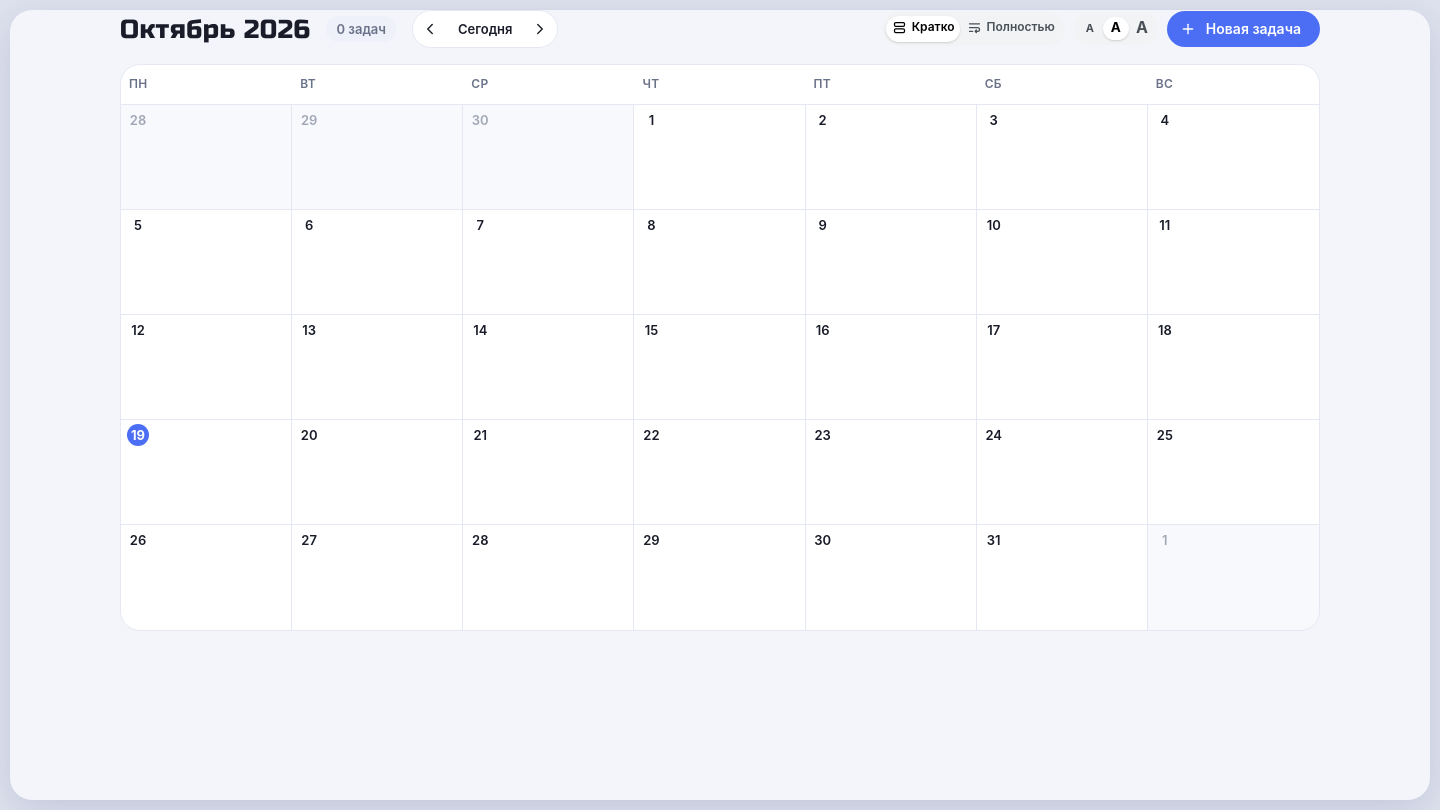
Test case: CalendarPage › заголовок текущего месяца с большой буквы и навигация
The image size is (1440, 810).
Expected: the heading "Октябрь 2026" is shown, [120,12,310,47]
Click the button named "Следующий месяц". click: coordinates (540, 29)
box: [526,15,554,43]
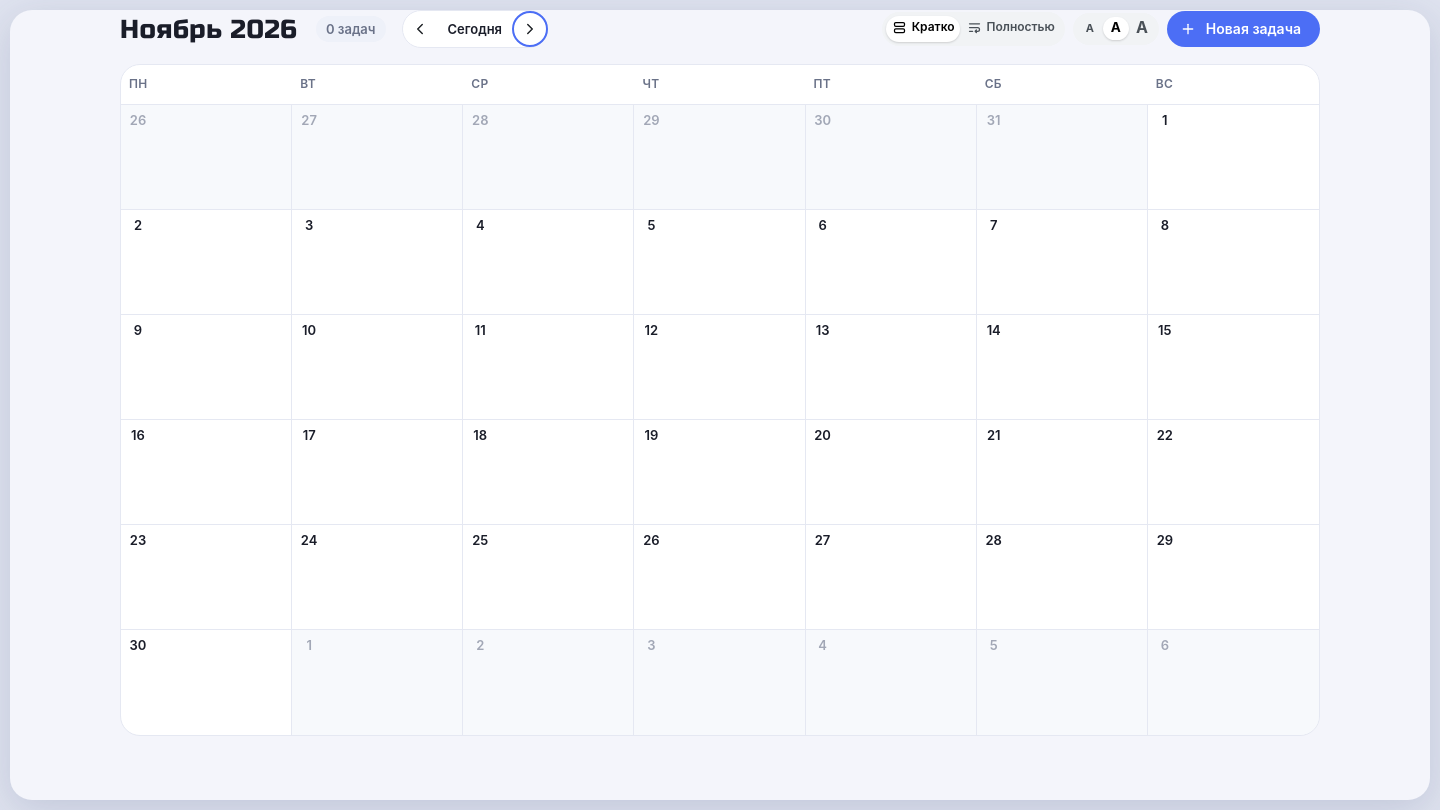
Expected: the heading "Ноябрь 2026" is shown, [120,12,300,47]
Click the button named "Предыдущий месяц". click: coordinates (420, 29)
box: [406,15,434,43]
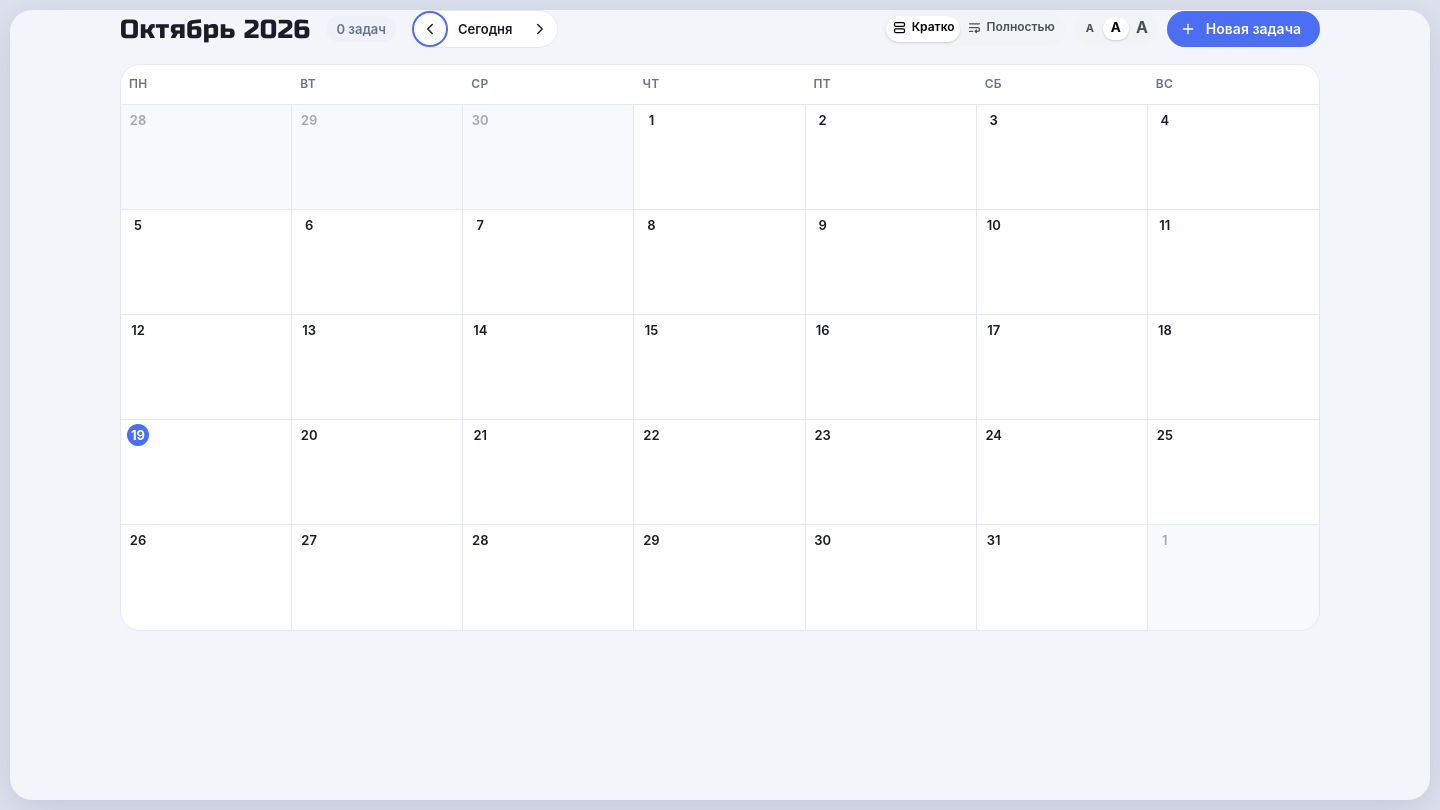
Click the button named "Предыдущий месяц". click: coordinates (430, 29)
box: [416,15,444,43]
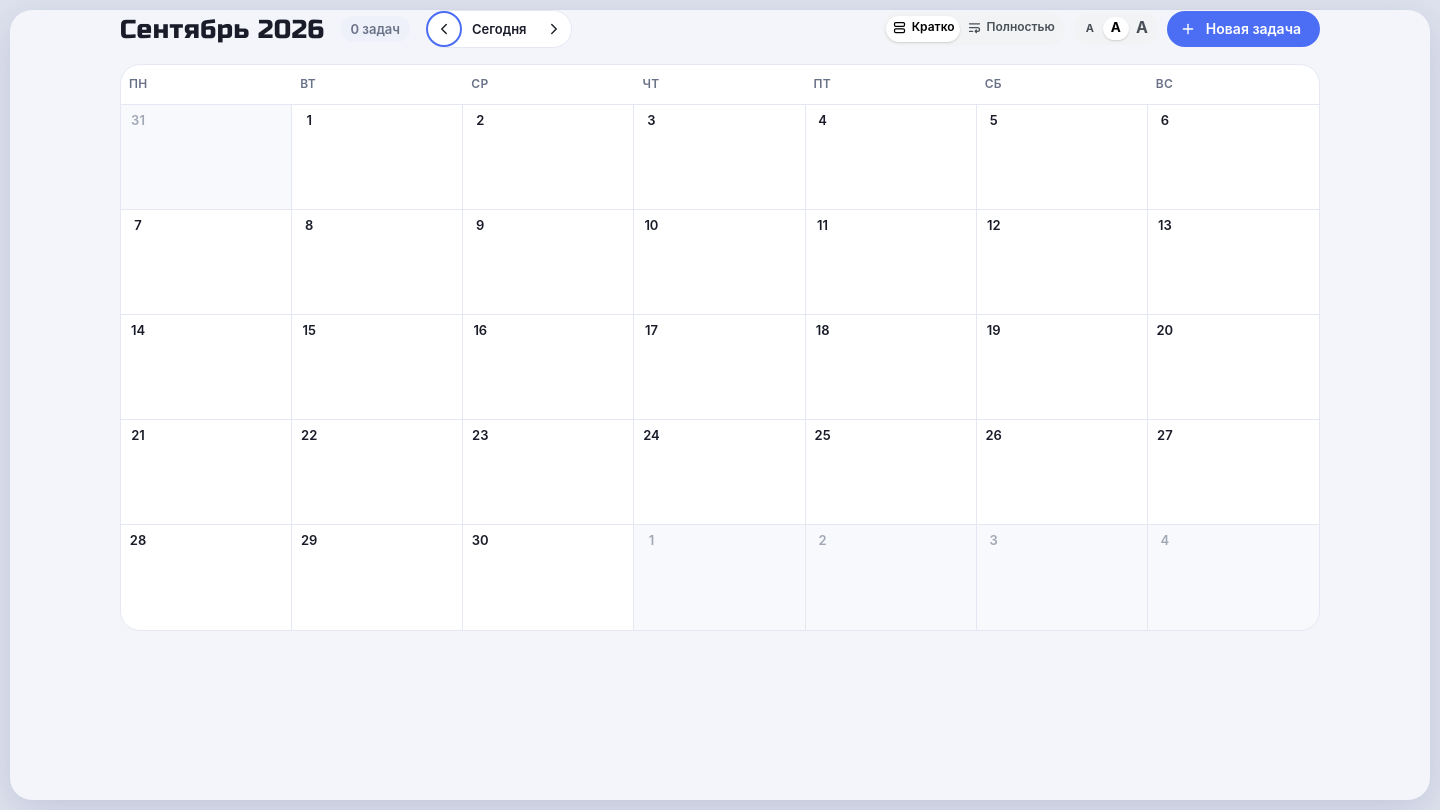
Expected: the heading "Сентябрь 2026" is shown, [120,12,324,47]
Click the button "Сегодня". click: coordinates (499, 29)
box: [460,14,538,44]
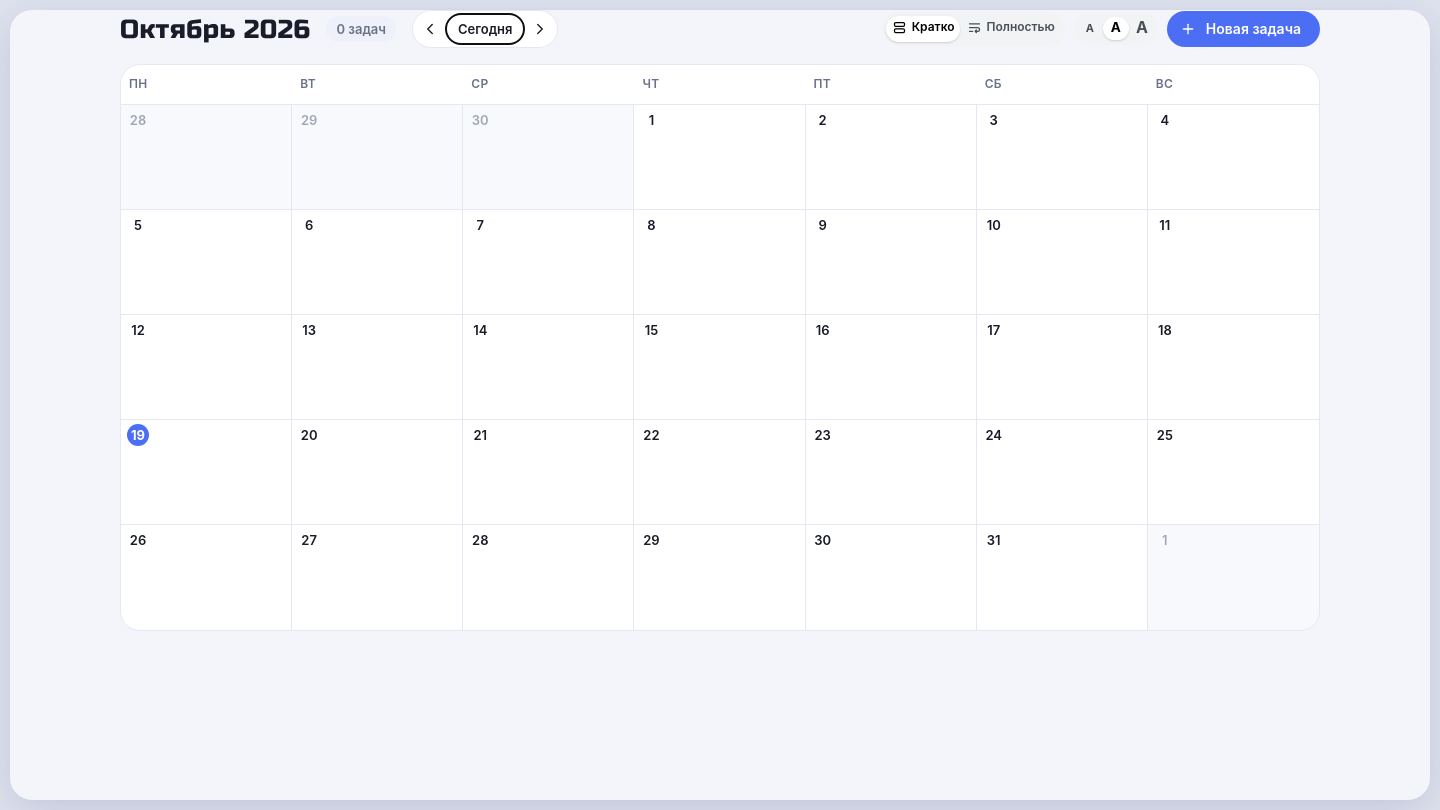
Expected: the heading "Октябрь 2026" is shown, [120,12,310,47]
